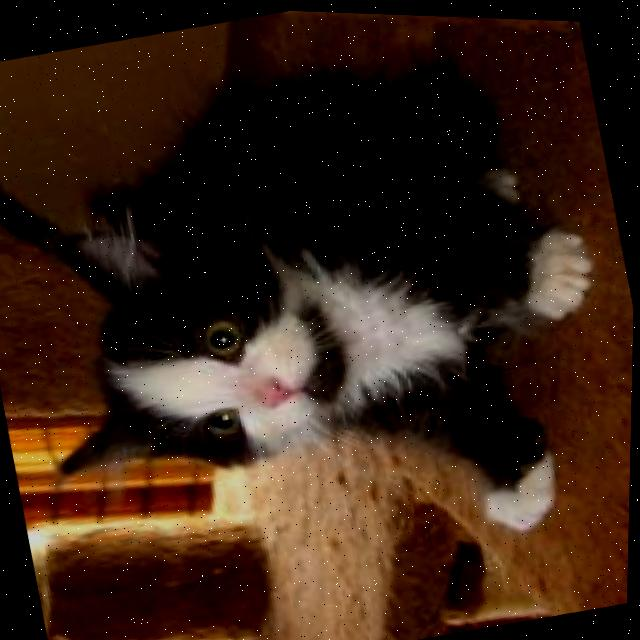Tuxedo: (0, 6, 640, 625)
